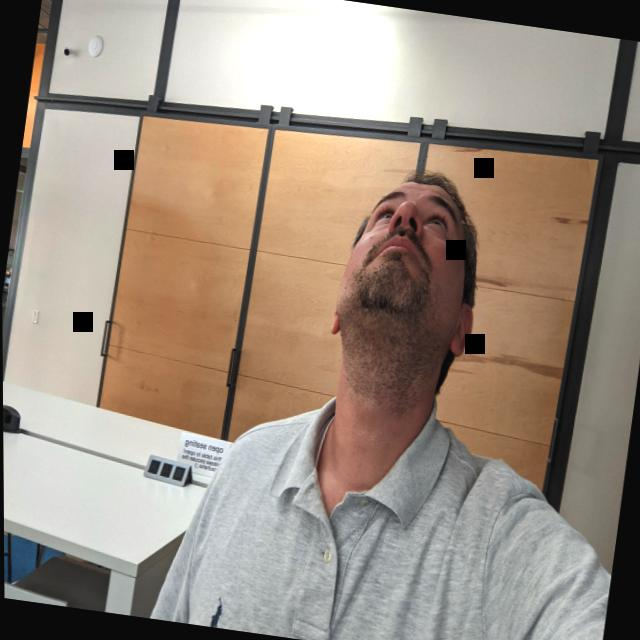NO-Mask: (327, 161, 493, 364)
